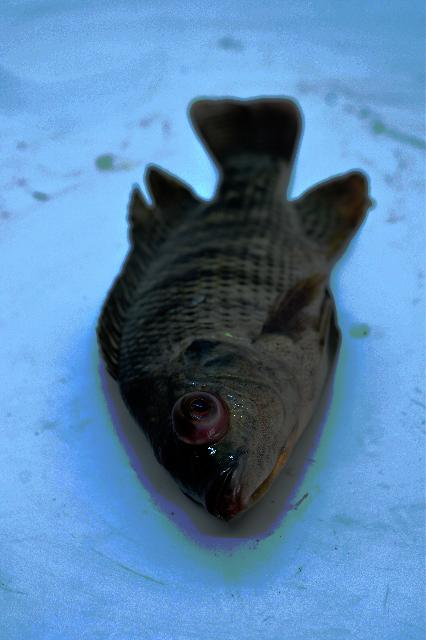Columnaris Disease: (98, 102, 367, 520)
